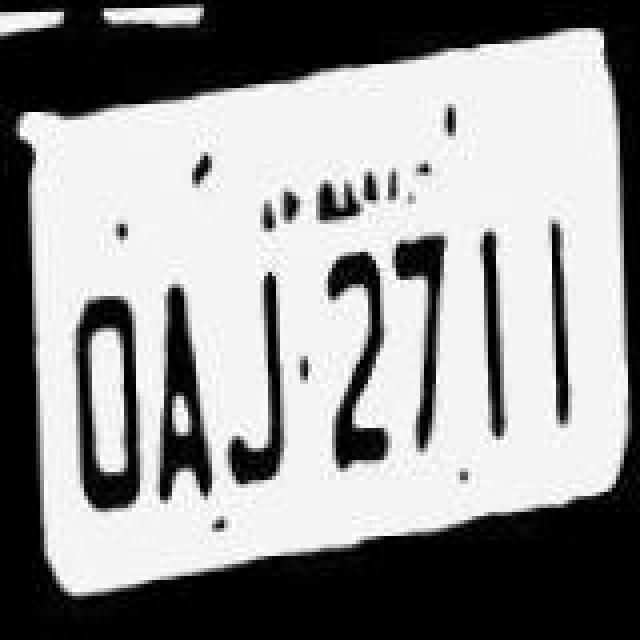1: (526, 200, 586, 464), (458, 200, 518, 460)
2: (312, 234, 396, 490)
7: (386, 220, 462, 460)
A: (140, 252, 216, 508)
J: (218, 254, 298, 494)
O: (64, 270, 148, 530)
